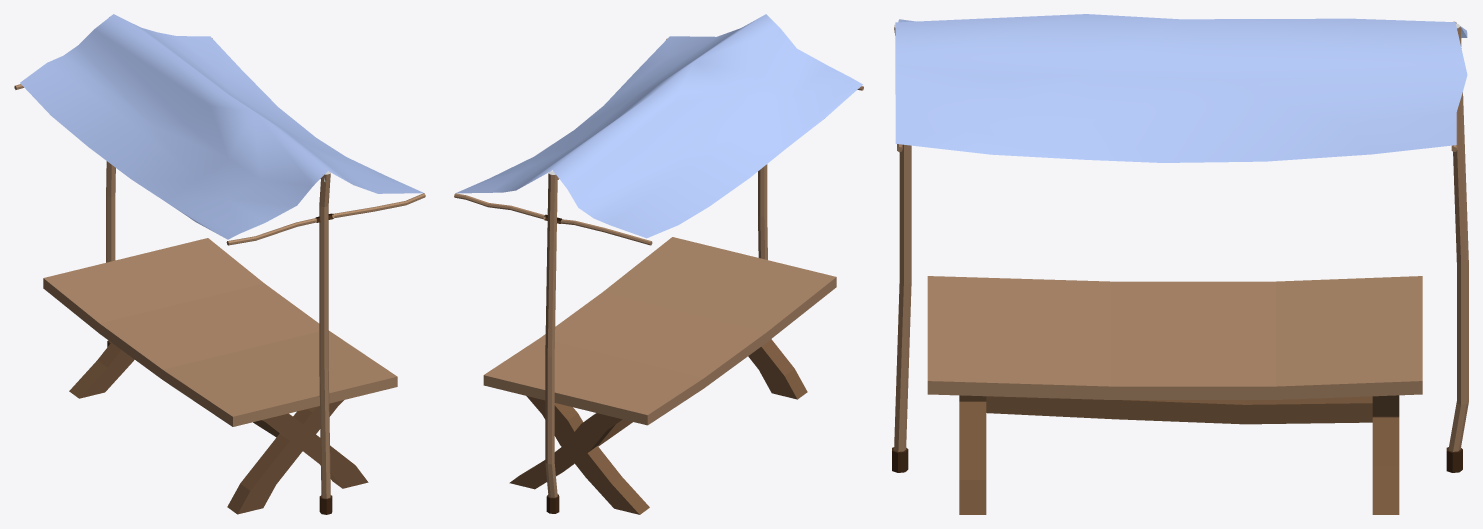
File: Markt_Kraam.fbx
3 views of the same model, side by side, from view 1: azimuth 30°, elevation 25°; view 2: azimuth 150°, elevation 25°; view 3: azimuth 270°, elevation 25° (orthographic). The views are drawn at different scales.
Visible parts, largest first — view 1: tafel bovenkant; view 2: tafel bovenkant; view 3: tafel bovenkant.
Part boxes in pixels (x1,y1,x2,y2): tafel bovenkant: (14,14,425,514); tafel bovenkant: (454,14,863,514); tafel bovenkant: (892,14,1468,514).
Bounding box in the file's own units: 239 × 408 × 464.
